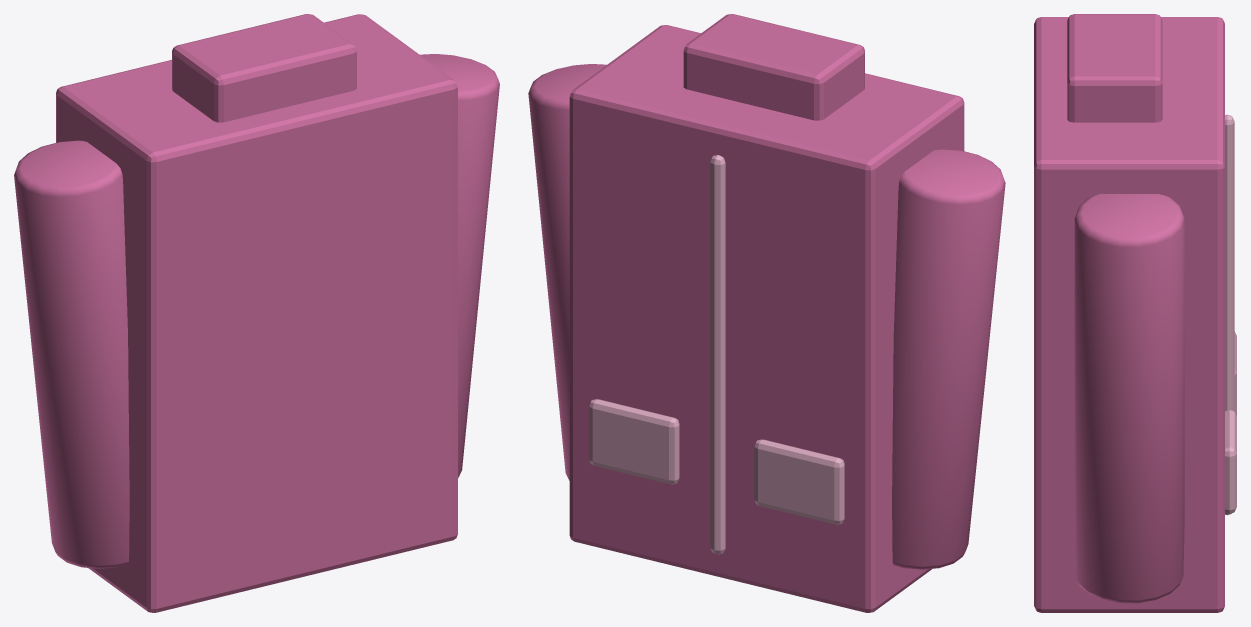
Rendered from VM-DAM-FS17.glb.
The picture shows the model from 3 angles, left to right: view 1: azimuth 30°, elevation 25°; view 2: azimuth 150°, elevation 25°; view 3: azimuth 270°, elevation 25°; orthographic projection.
Parts seen in each view (by area): view 1: Chaqueta Lluvia Mujer Rompevientos; view 2: Chaqueta Lluvia Mujer Rompevientos; view 3: Chaqueta Lluvia Mujer Rompevientos.
Boxes of the visible parts, left/top/right/bottom form: Chaqueta Lluvia Mujer Rompevientos: left=14, top=14, right=499, bottom=612; Chaqueta Lluvia Mujer Rompevientos: left=528, top=14, right=1005, bottom=612; Chaqueta Lluvia Mujer Rompevientos: left=1034, top=14, right=1236, bottom=612.
Bounding box in the file's own units: 0.7472 × 0.7674 × 0.2843.
